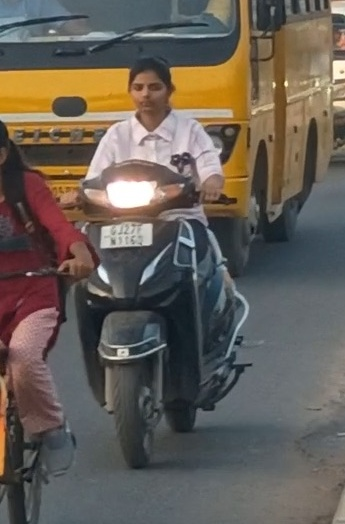BikeWithRider: (72, 56, 251, 476)
NoHelmet: (123, 60, 176, 110)
